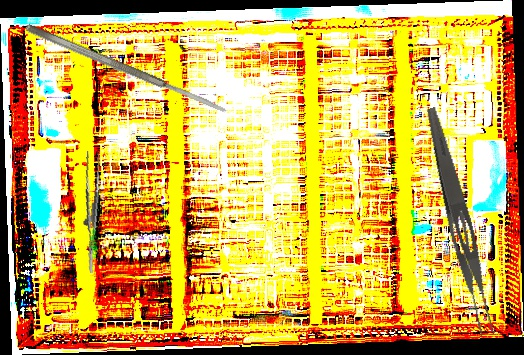Dressing Forceps: (415, 105, 501, 339)
Spatula Surgical: (23, 21, 231, 118)
Tissue Forceps: (68, 150, 112, 274)
